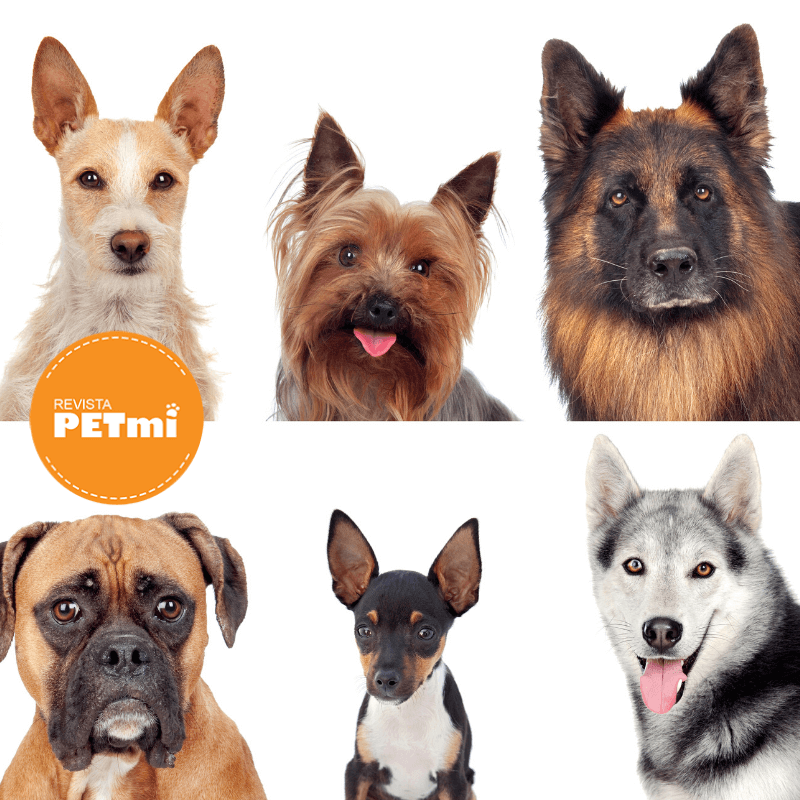dog: (533, 15, 792, 410), (260, 113, 527, 415), (576, 439, 798, 800), (2, 502, 263, 800), (10, 34, 236, 316), (324, 493, 501, 800)
